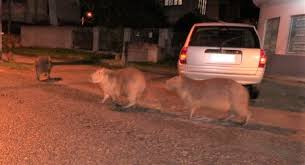capivara: (166, 74, 250, 124), (89, 67, 147, 109)
